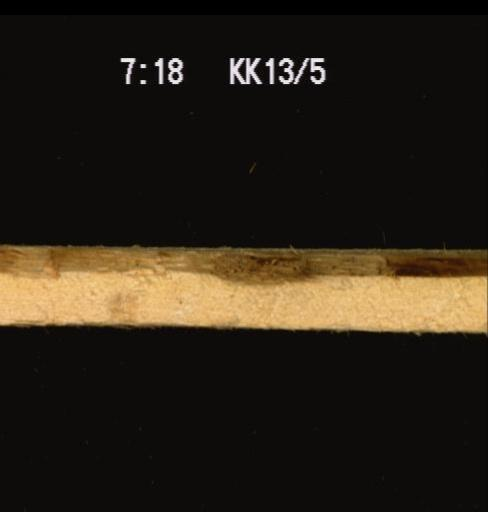wave: (0, 227, 486, 281)
